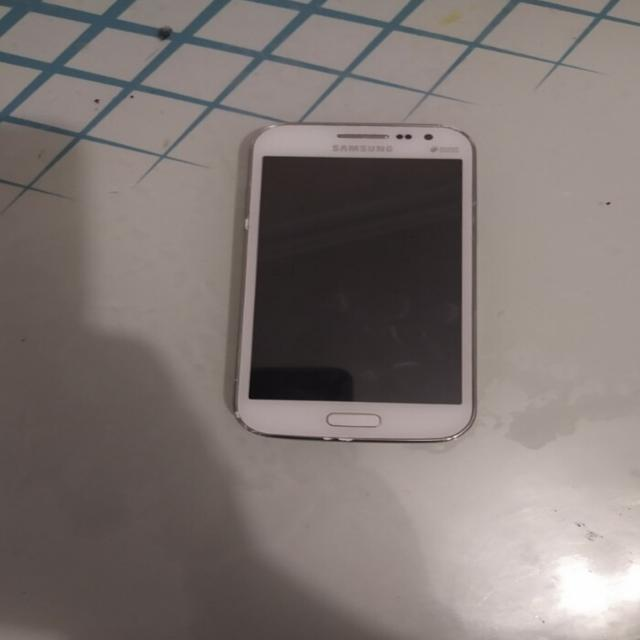phone good: (222, 115, 494, 463)
